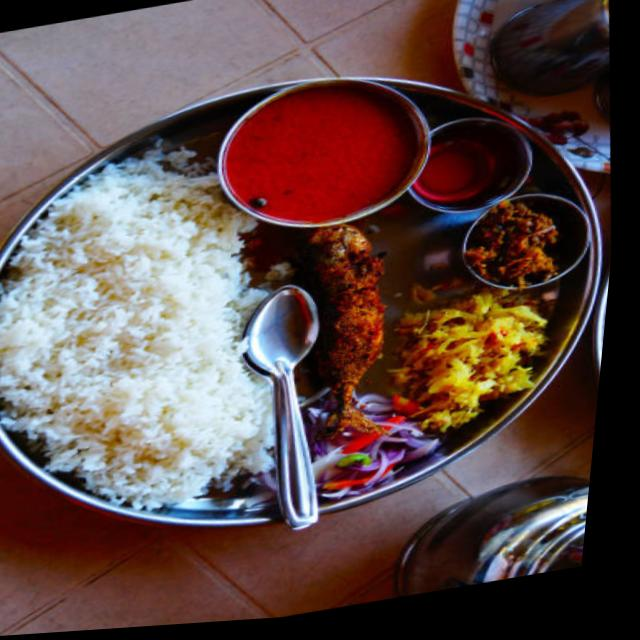FISH FRY: (297, 226, 379, 449)
RED CHUTNEY: (236, 89, 402, 215)
RICE: (5, 182, 272, 498)
VEGGIES: (405, 301, 546, 423), (477, 206, 555, 284)
